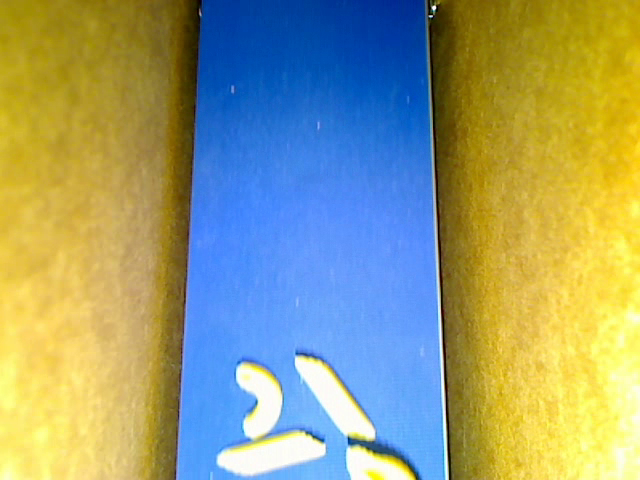elbow: (236, 361, 283, 440)
penne: (294, 354, 374, 438), (215, 429, 326, 475)
shell: (344, 445, 413, 479)
